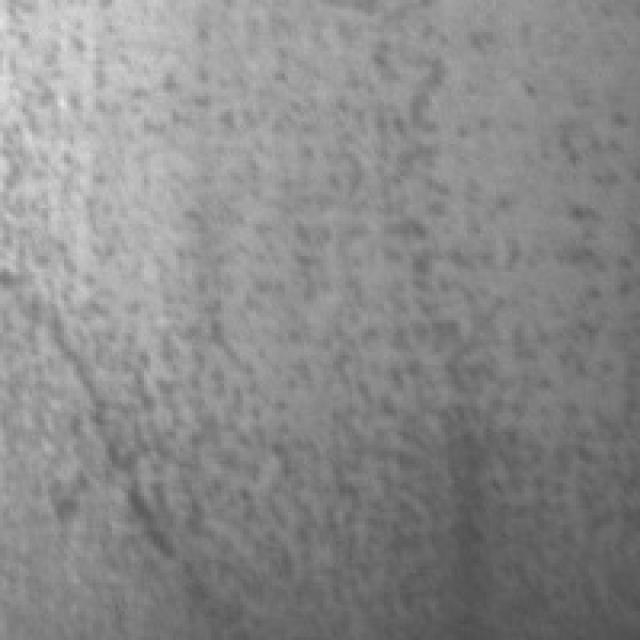pitted_surface: (22, 38, 621, 628)
